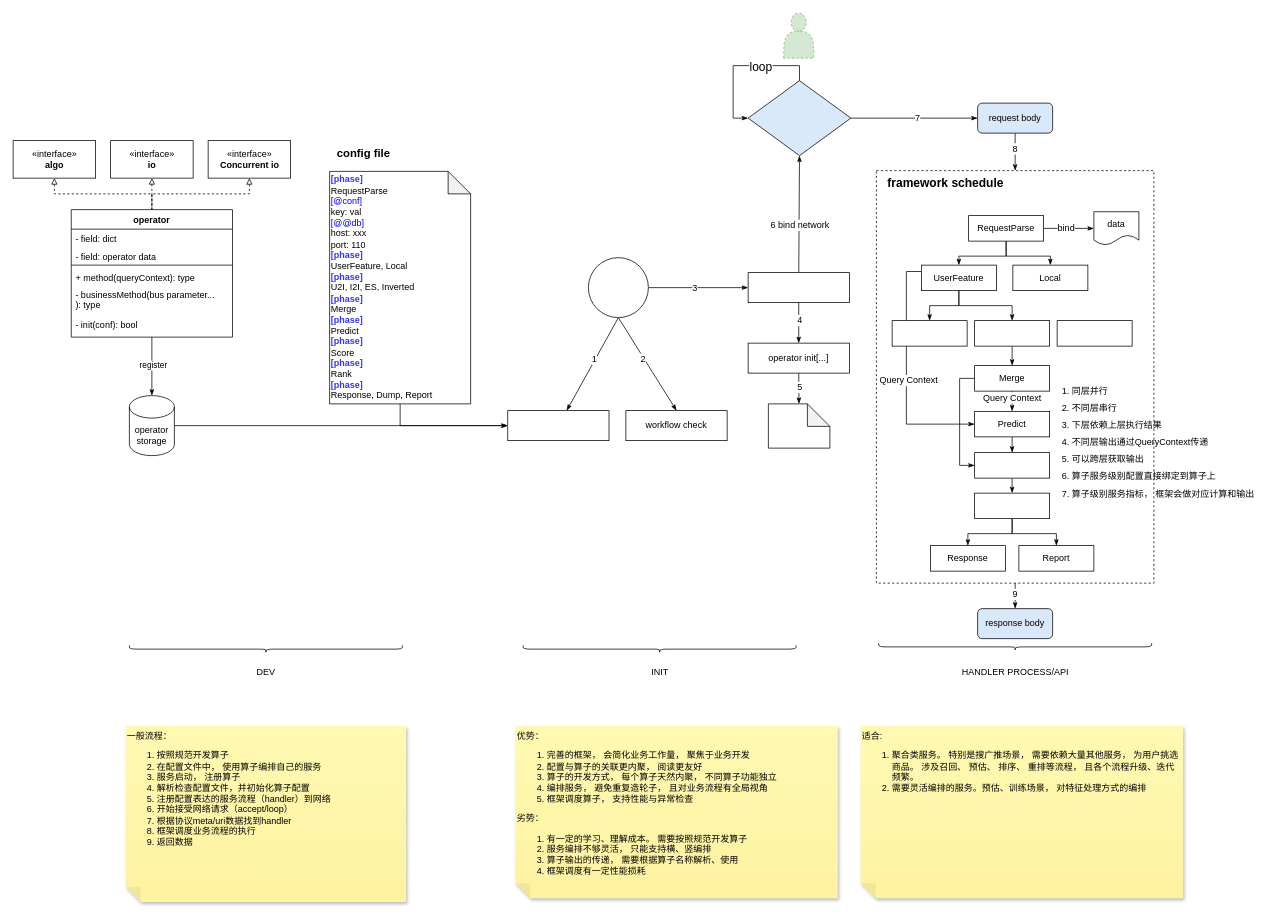
This 1286x920 diagram has some shape labels left out. Here are the shapes that lost their labels. From the top down, the centre of each, then its label:
the point at 799,118: Network framework http/grpc/brpc/spex...
the point at 618,287: global init
the point at 798,287: workflow init
the point at 929,333: U2I
the point at 1012,333: I2I
the point at 1094,333: ES
the point at 558,425: config parse
the point at 799,425: operator data
the point at 1012,465: Score
the point at 1012,505: Rank
